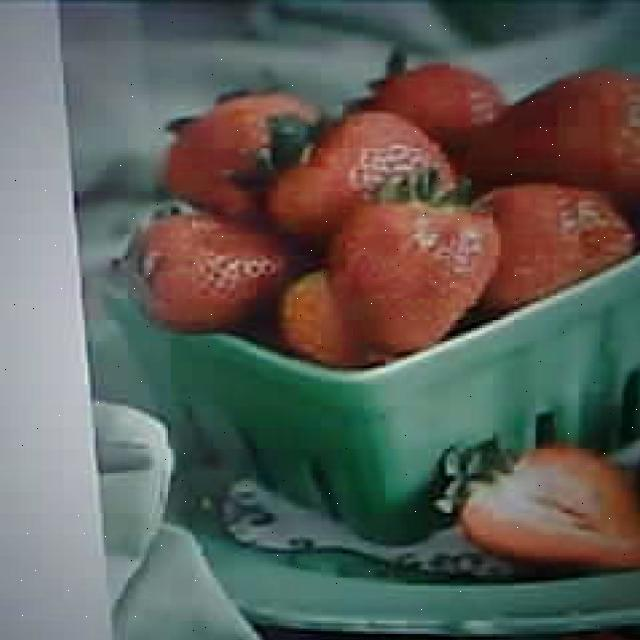ripe: (334, 208, 498, 349)
